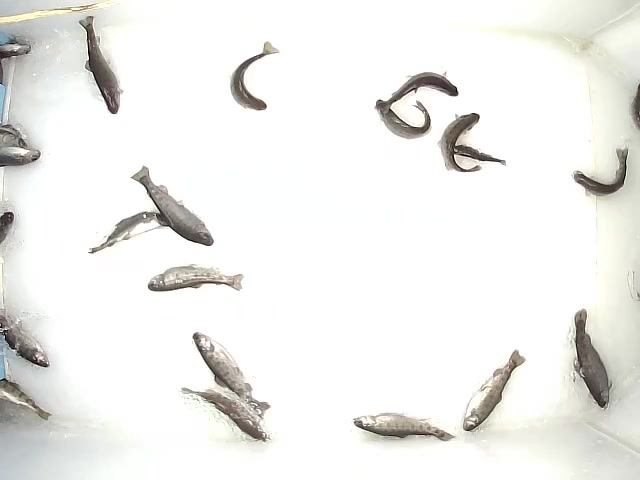fish: (128, 163, 215, 248), (191, 330, 272, 421), (176, 385, 272, 445), (462, 347, 527, 433), (74, 13, 127, 117), (572, 307, 614, 411), (226, 38, 283, 113), (87, 209, 173, 257), (374, 70, 460, 117), (351, 411, 458, 445), (572, 145, 629, 199), (437, 111, 483, 176), (1, 310, 51, 369), (147, 263, 246, 292), (375, 99, 433, 140), (1, 377, 53, 422), (447, 141, 509, 169), (1, 145, 43, 166)
